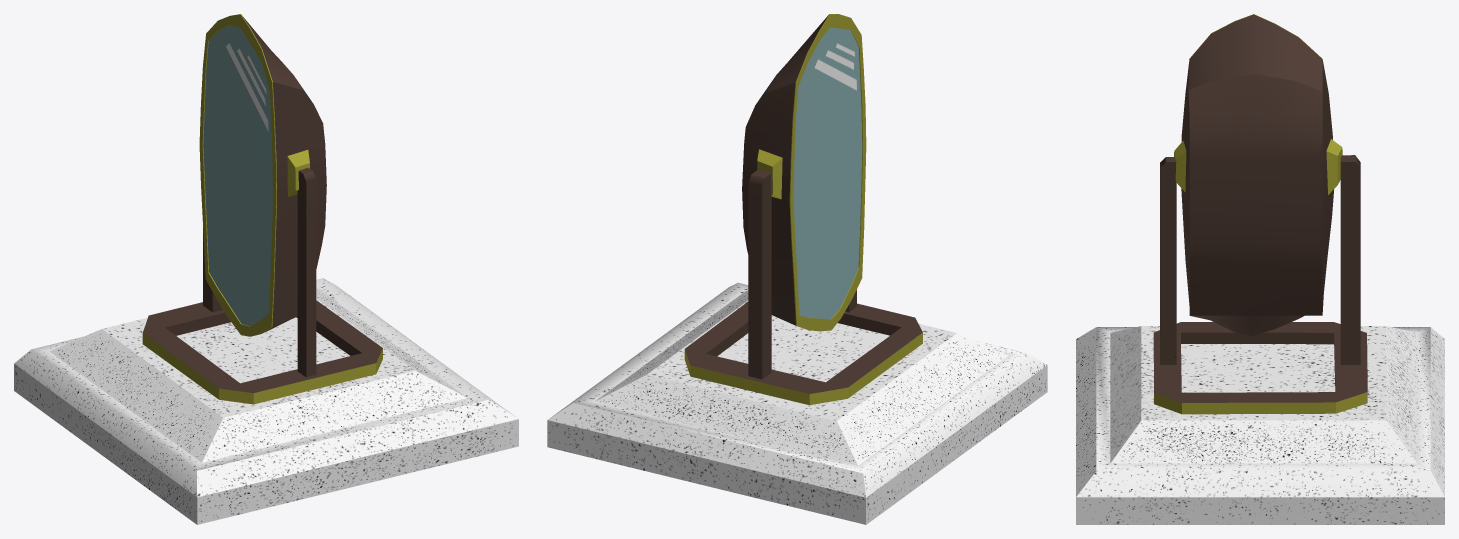
The model's file is MirrorForUnity.fbx.
3 renders of one model, left to right at view 1: azimuth 30°, elevation 25°; view 2: azimuth 150°, elevation 25°; view 3: azimuth 270°, elevation 25°, orthographic.
Visible parts, largest first — view 1: pCube3; view 2: pCube3; view 3: pCube3.
Part boxes in pixels (x1,y1,x2,y2): pCube3: [14, 14, 518, 524]; pCube3: [547, 14, 1047, 524]; pCube3: [1076, 14, 1444, 524].
Size of the model in its own units: 2.97 by 3.65 by 2.93.
Materials: 1 (1 with a texture image).
